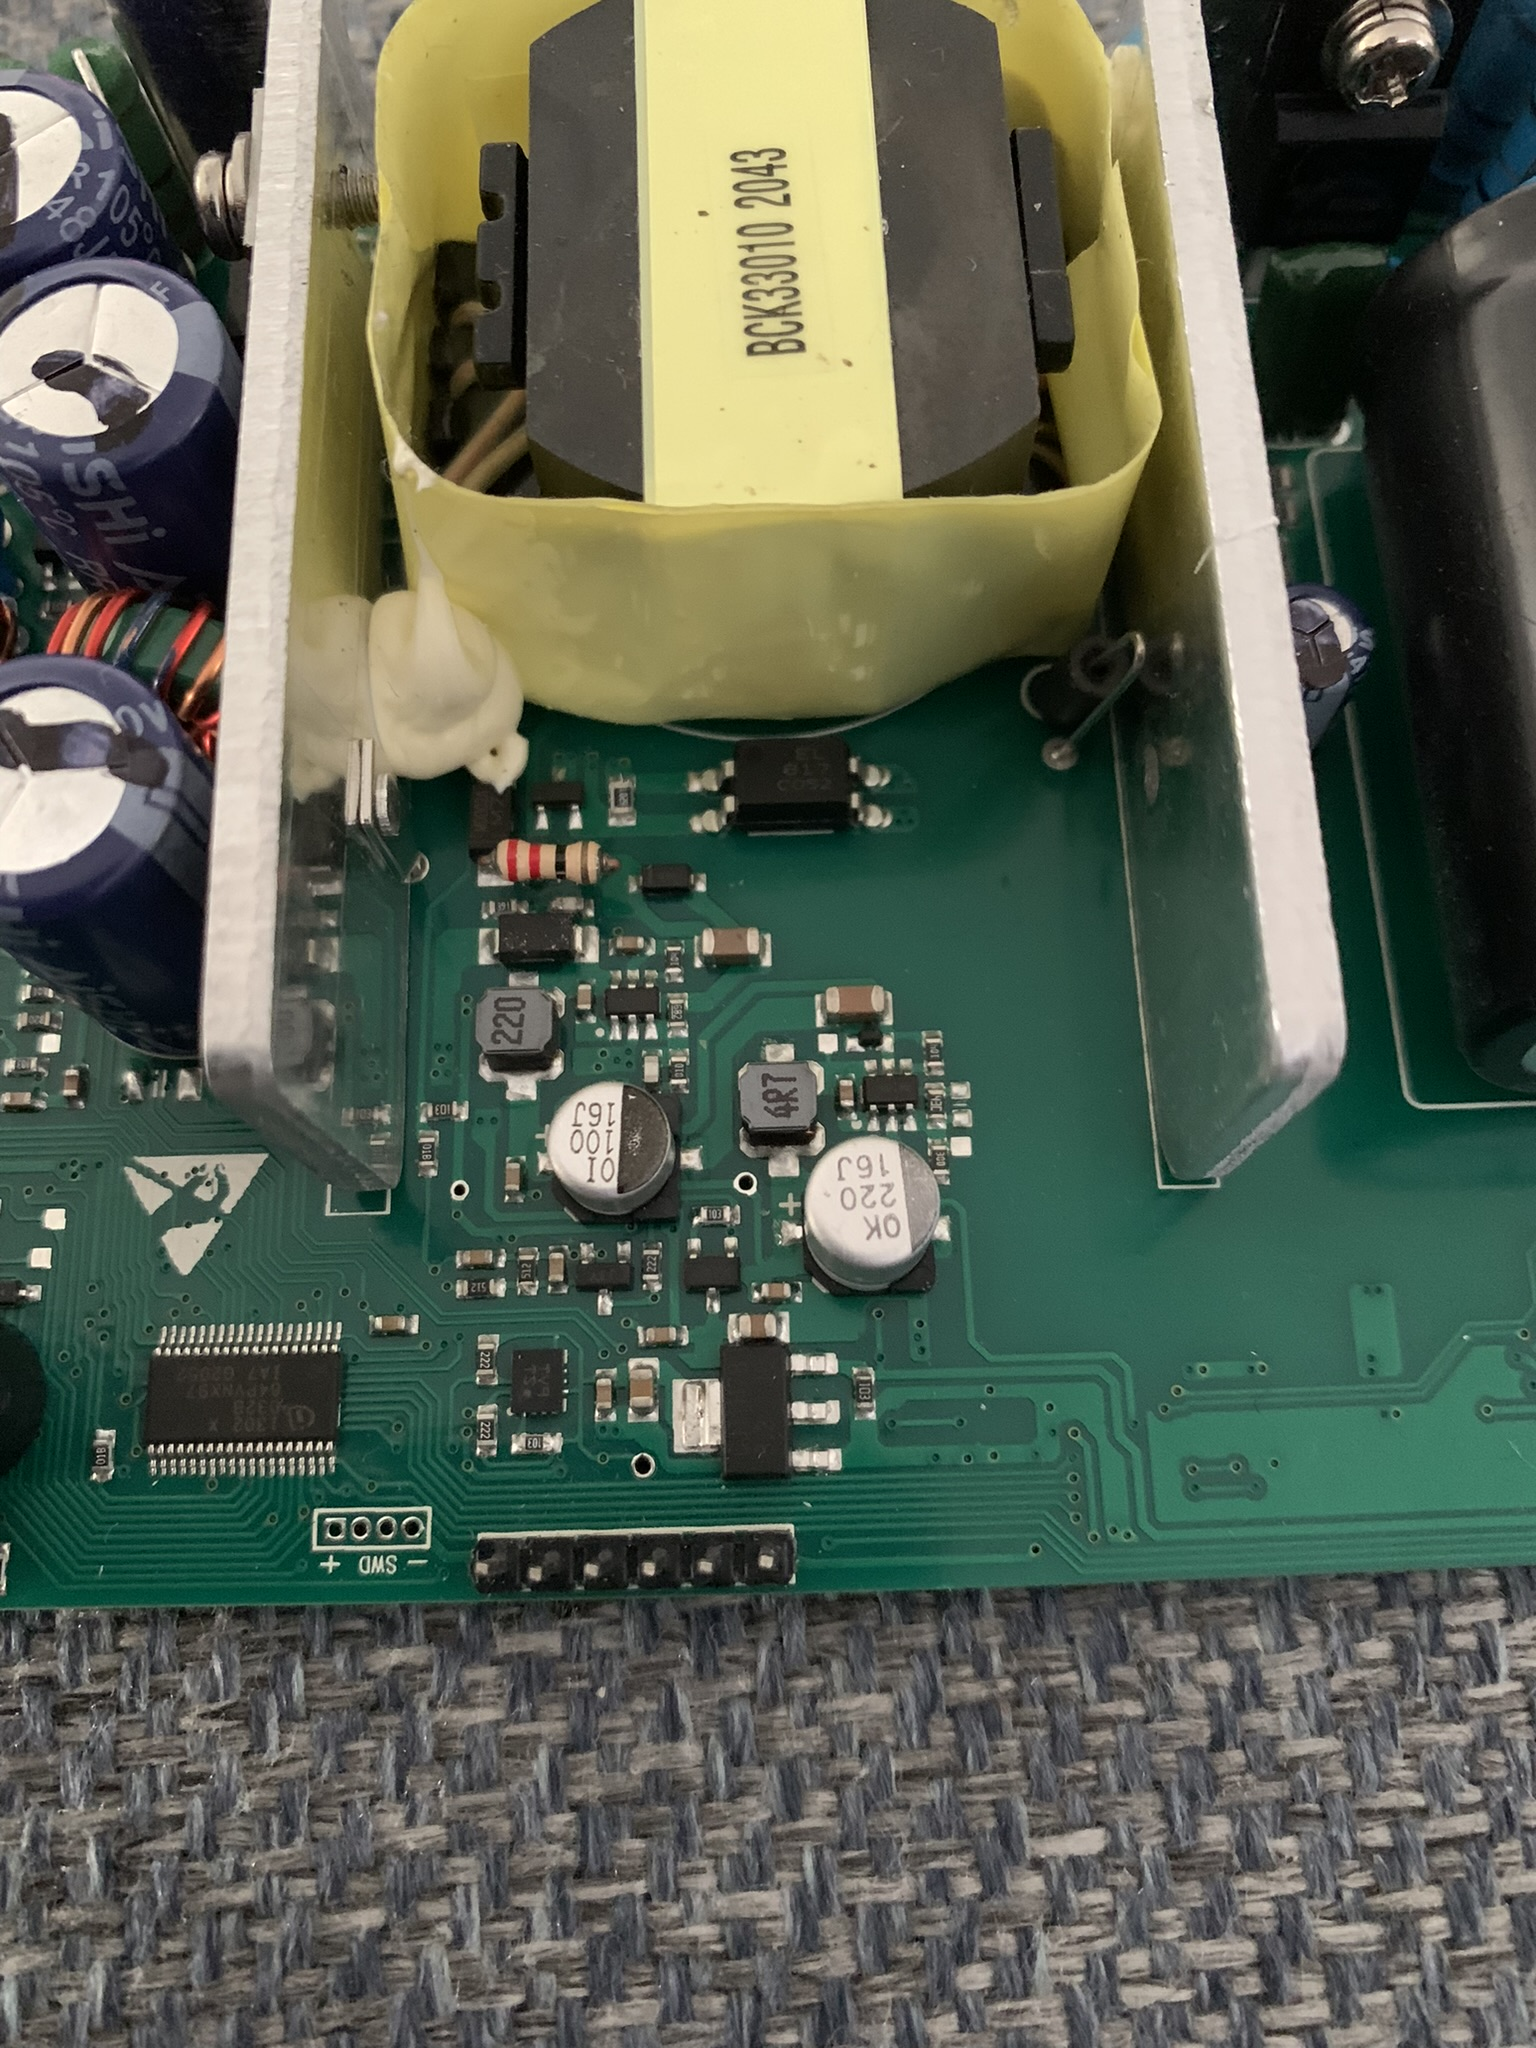capacitor_smd_el: (803, 1135, 942, 1293), (545, 1079, 679, 1219)
capacitor_smd_mlc: (700, 926, 763, 964), (824, 984, 886, 1021), (629, 1366, 655, 1409), (739, 1313, 778, 1338), (642, 1324, 679, 1347), (461, 1248, 495, 1268), (373, 1314, 407, 1334), (61, 1068, 81, 1101), (615, 934, 645, 955), (2, 1092, 35, 1109), (595, 1377, 611, 1411), (549, 1251, 565, 1284), (762, 1282, 791, 1300), (505, 1161, 520, 1192), (576, 984, 592, 1011), (839, 1079, 854, 1108)
diode_smd: (494, 918, 582, 963), (641, 864, 694, 892), (857, 1026, 886, 1051)
ic_smd: (145, 1347, 337, 1455), (699, 1343, 812, 1472), (511, 1350, 565, 1416), (684, 1248, 741, 1300), (574, 1255, 632, 1297), (603, 984, 662, 1022), (863, 1072, 916, 1113), (532, 776, 587, 814)
inductor: (473, 985, 565, 1072), (737, 1061, 824, 1145)
resistor_smd: (610, 779, 636, 814), (641, 1247, 662, 1284), (854, 1376, 876, 1409), (699, 1205, 733, 1226), (925, 1035, 945, 1068), (426, 1100, 458, 1121), (92, 1438, 111, 1472), (478, 1413, 497, 1445), (520, 1434, 553, 1451), (928, 1087, 945, 1121), (23, 982, 56, 1000), (478, 1343, 495, 1376), (463, 1279, 495, 1297), (487, 897, 520, 914), (6, 1056, 39, 1074), (520, 1253, 536, 1287), (671, 1051, 687, 1085), (418, 1135, 436, 1166), (21, 1011, 52, 1029), (929, 1145, 949, 1172), (670, 998, 687, 1027), (666, 945, 682, 976)
resistor_thd: (494, 837, 607, 889)
